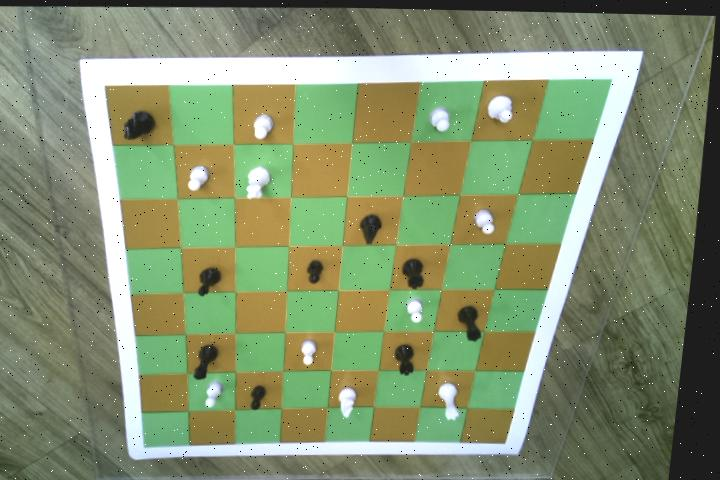chessboard-detect: (105, 76, 614, 448)
